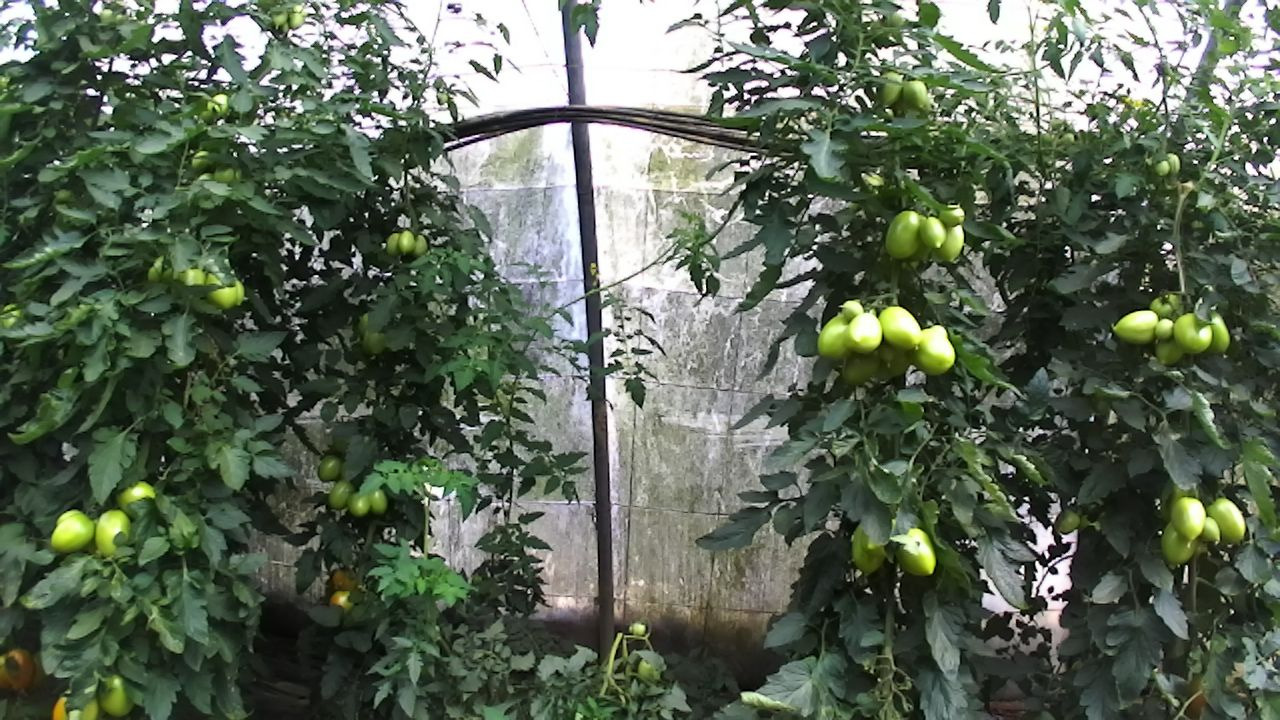tomato: (889, 520, 940, 581), (904, 324, 957, 377), (844, 515, 887, 577), (91, 500, 135, 560), (93, 665, 139, 720), (1204, 494, 1248, 546), (1158, 518, 1202, 570), (48, 510, 97, 556), (877, 304, 923, 353), (883, 207, 924, 260), (837, 344, 884, 388), (1108, 308, 1161, 347), (842, 310, 885, 356), (1172, 310, 1214, 355), (1169, 494, 1207, 543), (930, 217, 968, 266), (815, 312, 849, 363), (872, 68, 907, 109), (916, 214, 948, 251), (1051, 501, 1082, 537), (326, 479, 357, 509), (901, 77, 928, 110), (315, 451, 342, 483), (937, 202, 967, 230), (345, 488, 371, 519), (837, 297, 867, 322), (366, 487, 389, 517), (1152, 316, 1176, 342), (396, 229, 417, 257)
